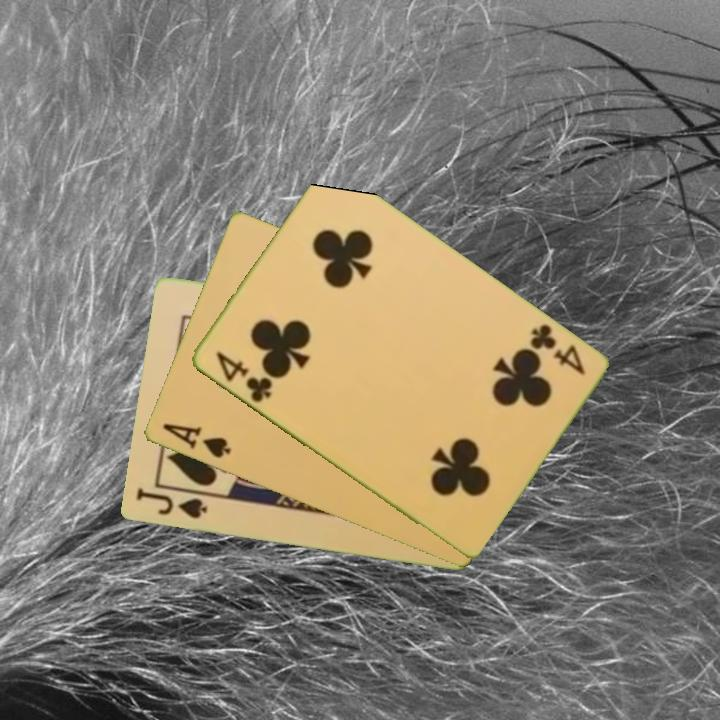4c: (525, 320, 588, 379), (212, 348, 275, 406)
As: (158, 419, 234, 462)
Js: (132, 485, 210, 522)
